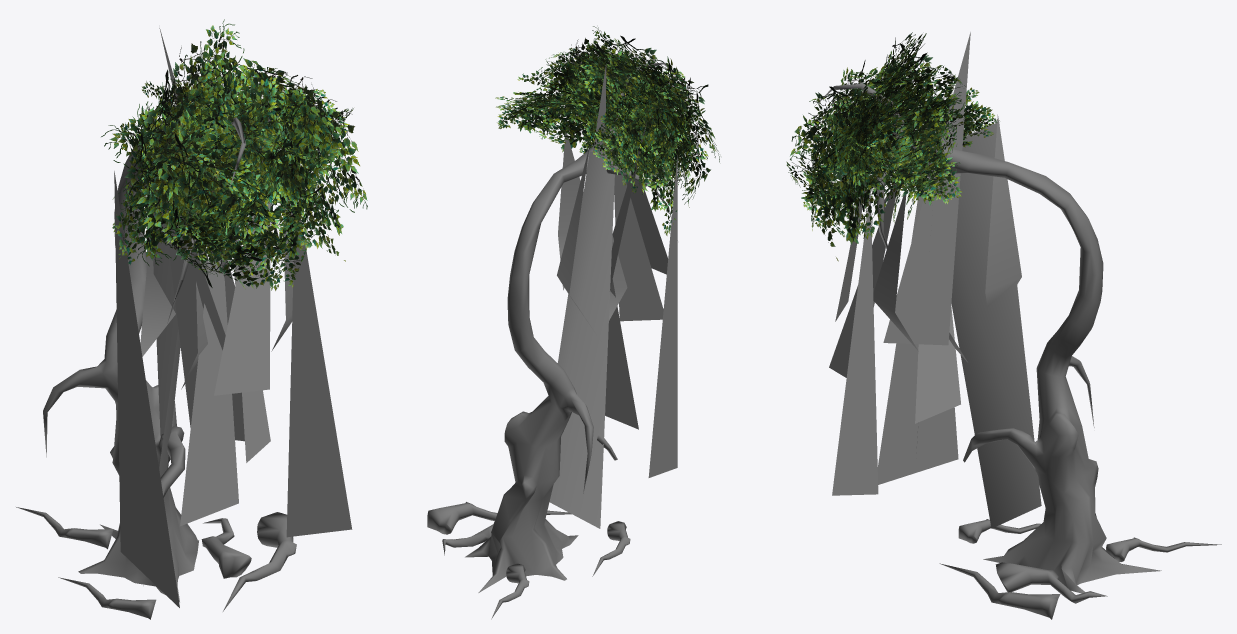
Rendered from grantree_lod1.fbx.
3 views of the same model, side by side, from view 1: azimuth 30°, elevation 25°; view 2: azimuth 150°, elevation 25°; view 3: azimuth 270°, elevation 25° (orthographic). The views are drawn at different scales.
Parts seen in each view (by area): view 1: Default_Layer; view 2: Default_Layer; view 3: Default_Layer.
Boxes of the visible parts, box(x1,y1,x2,y2) form: Default_Layer: box(16, 19, 367, 619); Default_Layer: box(427, 26, 719, 619); Default_Layer: box(786, 32, 1221, 619).
Size of the model in its own units: 979 by 1898 by 1466.
